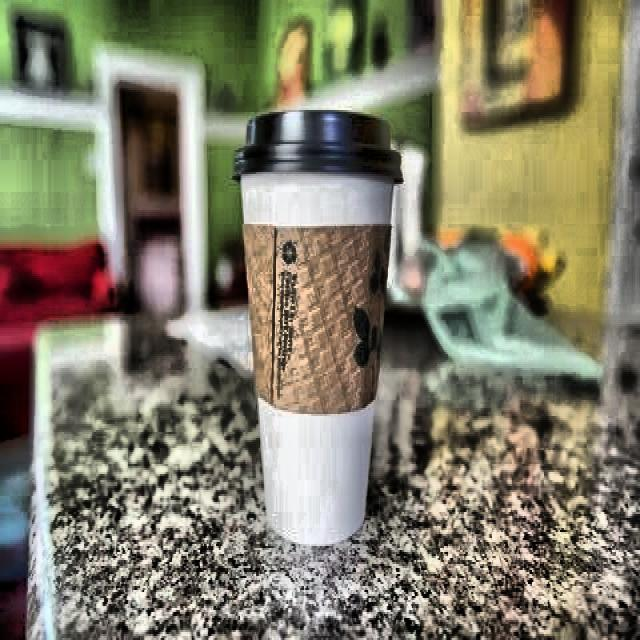Cup: (229, 131, 421, 567)
